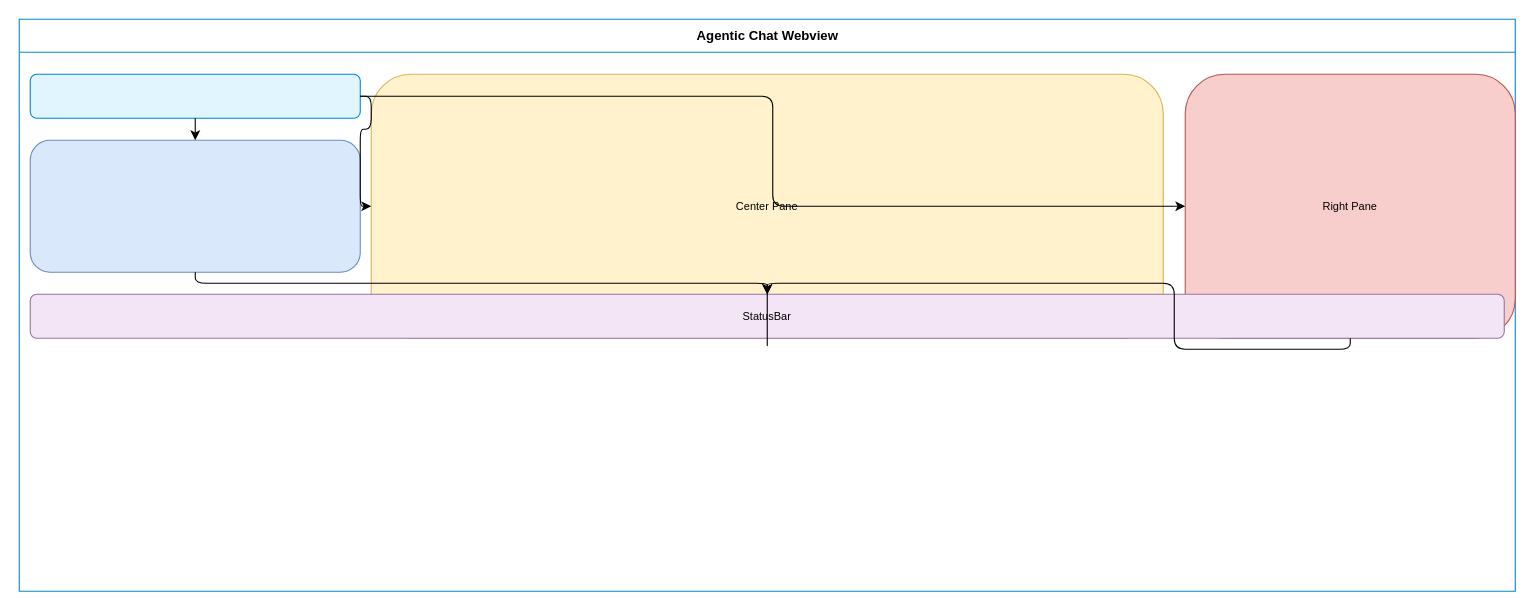
The diagram is 1535 pixels wide and 611 high, and some of its shapes have lost their labels. Here are the shapes that lost their labels. From the top down, the centre of each, then its label:
pixel 194 95: Toolbar
pixel 194 205: Left Pane
